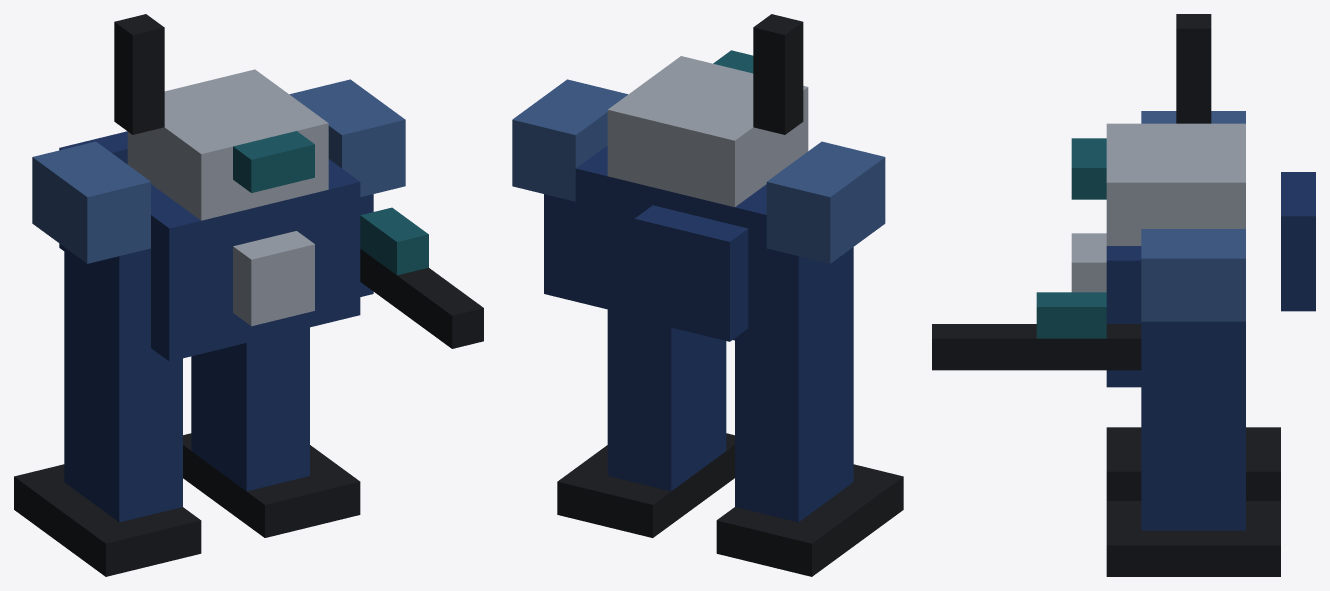
The model's file is mech_light_scout_damaged.glb.
The picture shows the model from 3 angles, left to right: view 1: azimuth 30°, elevation 25°; view 2: azimuth 150°, elevation 25°; view 3: azimuth 270°, elevation 25°; orthographic projection. The views are drawn at different scales.
Parts seen in each view (by area): view 1: Torso mesh, Head mesh, Leg L mesh, Feet mesh, Arm L mesh, Leg R mesh, Gun mesh, Arm R mesh, Antenna mesh, Pack mesh; view 2: Head mesh, Leg L mesh, Arm L mesh, Feet mesh, Leg R mesh, Torso mesh, Pack mesh, Arm R mesh, Antenna mesh; view 3: Arm R mesh, Head mesh, Feet mesh, Leg R mesh, Gun mesh, Torso mesh, Pack mesh, Antenna mesh, Arm L mesh.
Boxes of the visible parts, x1,y1,x2,y2 form: Torso mesh: (151, 159, 360, 361); Head mesh: (127, 69, 328, 220); Leg L mesh: (64, 316, 182, 522); Feet mesh: (14, 433, 360, 576); Arm L mesh: (32, 141, 150, 355); Leg R mesh: (191, 327, 309, 491); Gun mesh: (360, 207, 483, 348); Arm R mesh: (289, 79, 405, 296); Antenna mesh: (114, 14, 164, 134); Pack mesh: (59, 131, 127, 250); Head mesh: (607, 50, 808, 207); Leg L mesh: (735, 316, 853, 522); Arm L mesh: (766, 141, 885, 355); Feet mesh: (557, 433, 903, 576); Leg R mesh: (607, 309, 726, 491); Torso mesh: (575, 145, 766, 347); Pack mesh: (634, 205, 748, 341); Arm R mesh: (512, 79, 627, 301); Antenna mesh: (753, 14, 803, 134); Arm R mesh: (1141, 229, 1245, 401); Head mesh: (1071, 123, 1245, 245); Feet mesh: (1106, 427, 1280, 576); Leg R mesh: (1141, 402, 1245, 530); Gun mesh: (932, 292, 1141, 370); Torso mesh: (1071, 233, 1141, 387); Pack mesh: (1281, 172, 1315, 311); Antenna mesh: (1176, 14, 1211, 123); Arm L mesh: (1141, 111, 1245, 123).
Size of the model in its own units: 10 by 15 by 11.
1 material, 1 textured.
